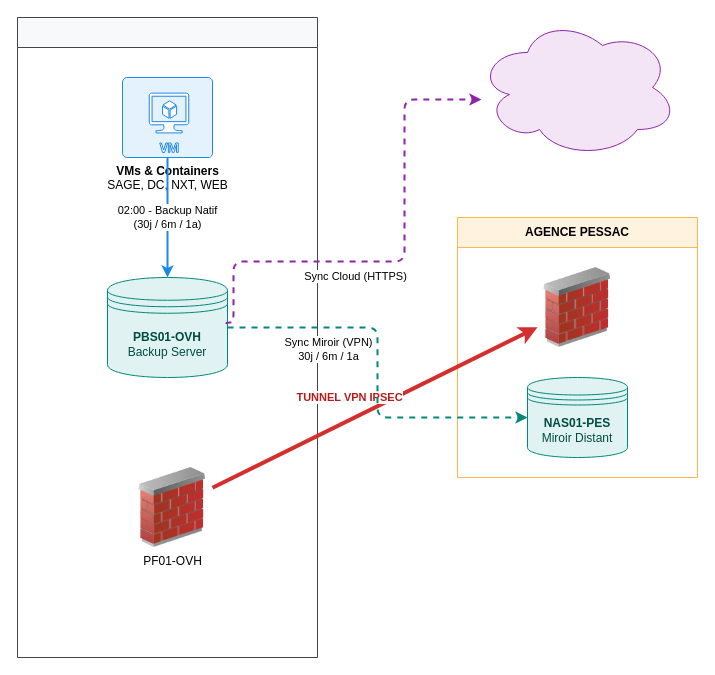
Some shapes in this 715 by 675 pixel diagram are drawn without their labels. The shapes that lost their labels are listed below. From the top down, each one's box as (x1, y1, x2, y2) in pixels, then its label:
(476, 16, 678, 158): OVH CLOUD S3 Archive Ultime (12m + 1a)
(537, 267, 617, 347): PF01-PES
(16, 16, 318, 658): ZONE OVH (PROD)
